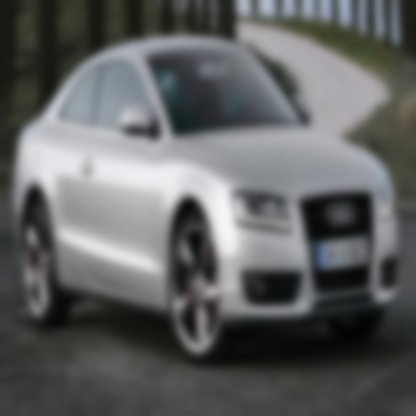Vehicle: (8, 30, 405, 370)
